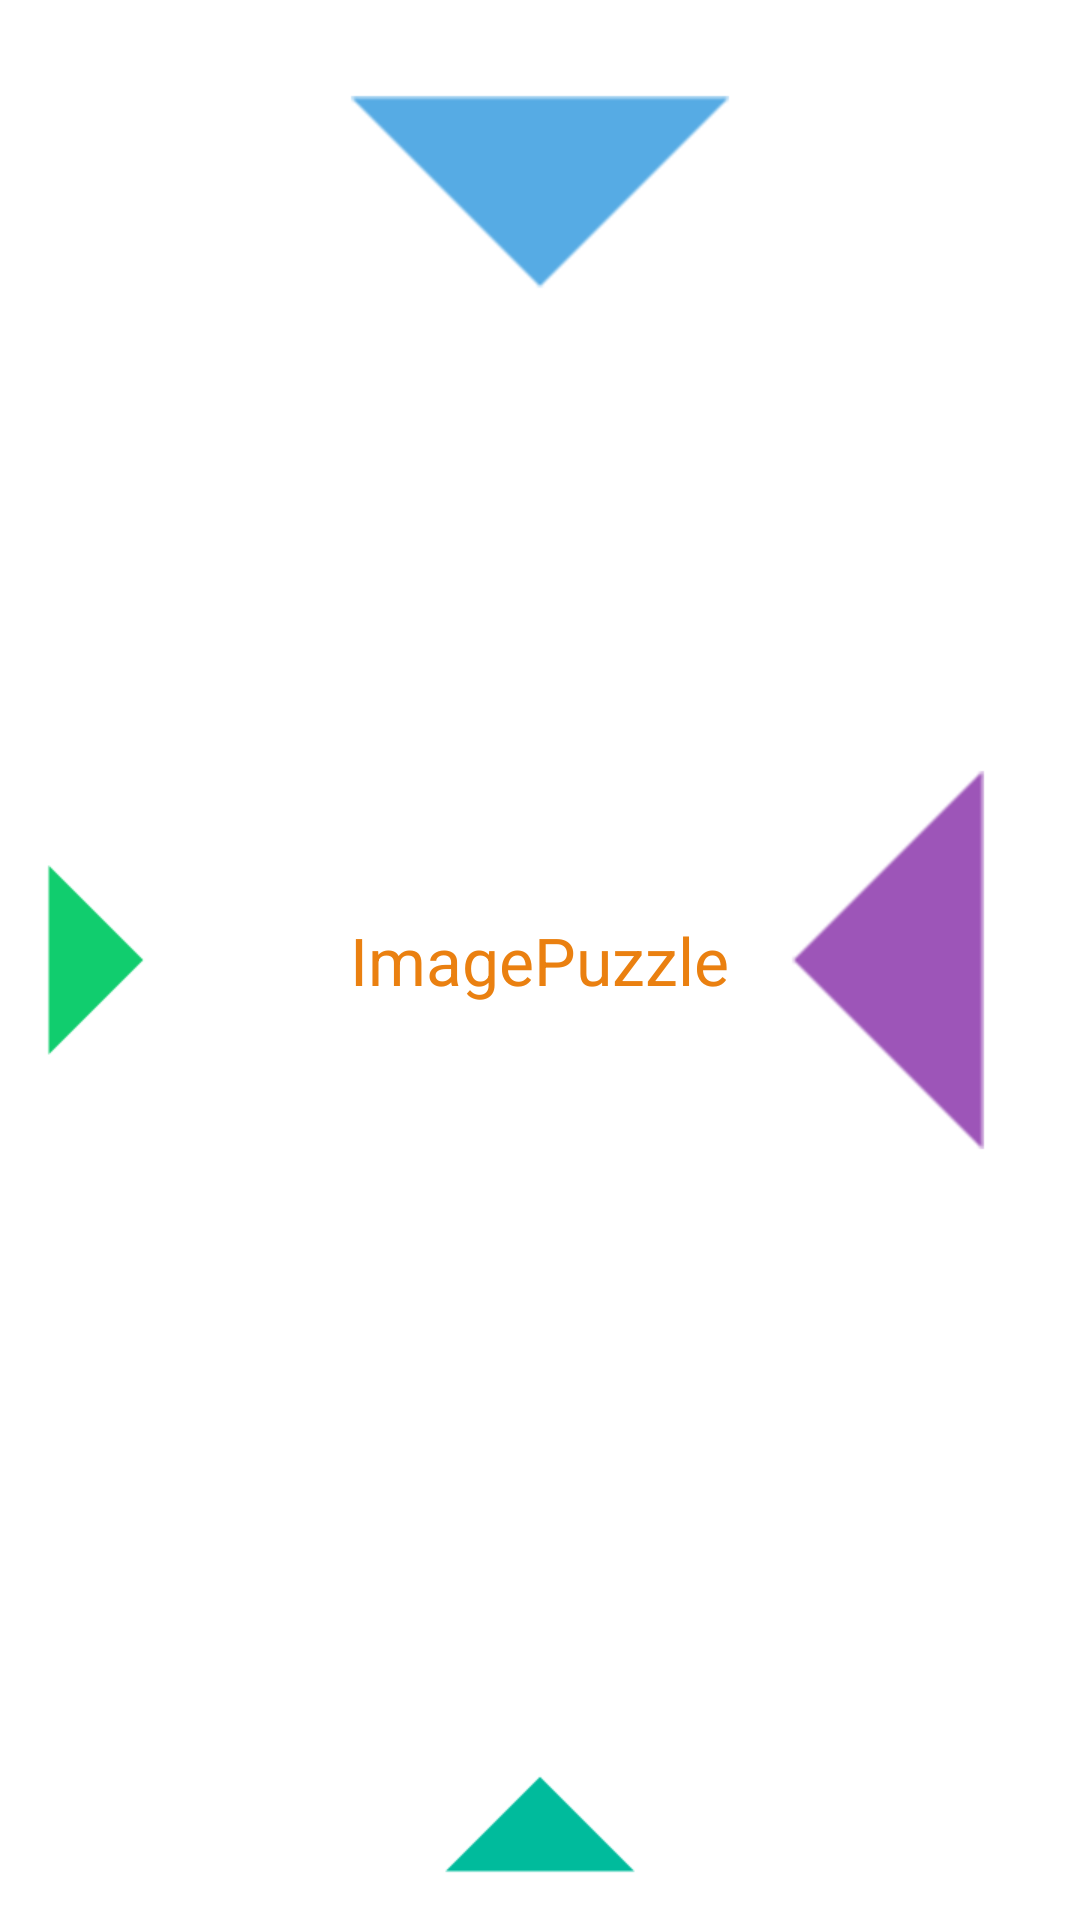

Where icons sit on this 1080px x 1920px app screen, as (x1, y1, x2, y2):
right: (48, 865, 143, 1055)
